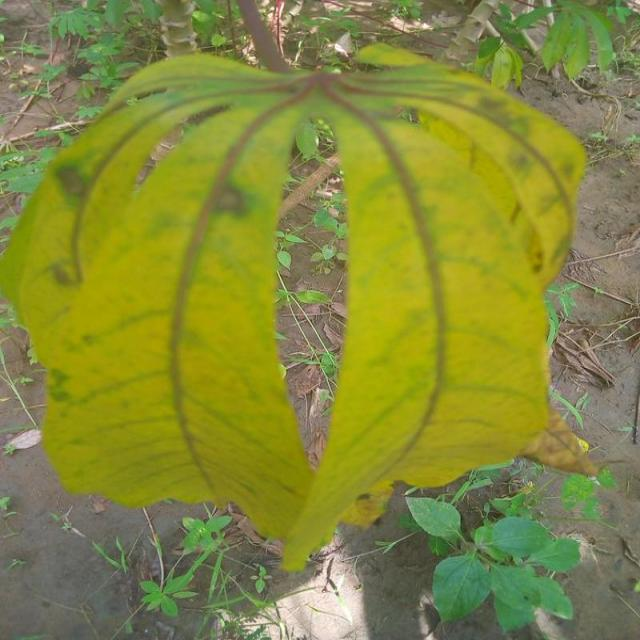cassava leaf: (1, 41, 594, 572)
